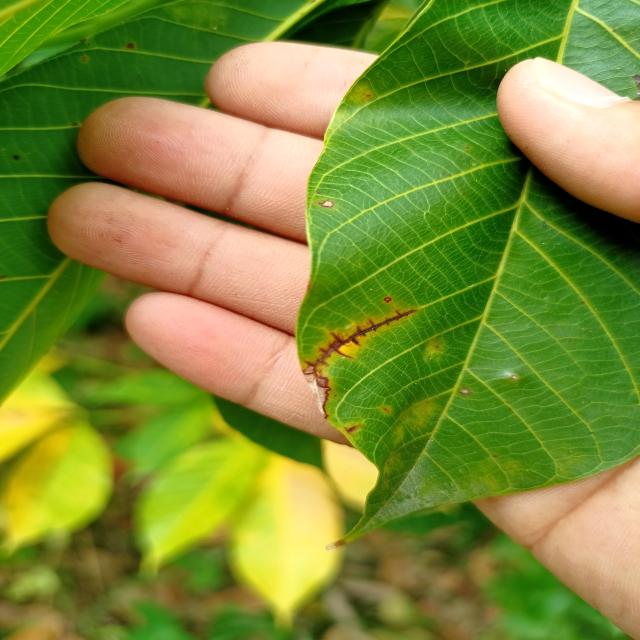Colletotrichum: (126, 42, 134, 50), (384, 297, 391, 303), (12, 155, 20, 160)
Corynespora: (302, 309, 417, 388)
Leaf-Blight: (305, 374, 327, 416)
